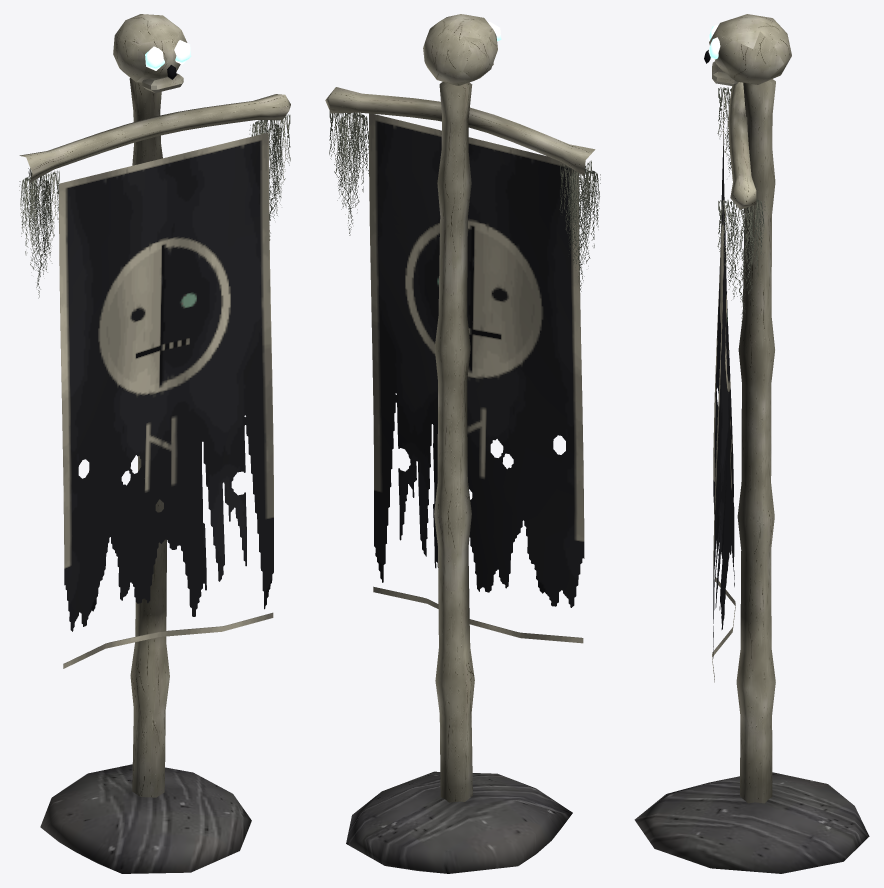
Rendered from helheim_banner.glb.
3 views of the same model, side by side, from view 1: azimuth 30°, elevation 25°; view 2: azimuth 150°, elevation 25°; view 3: azimuth 270°, elevation 25° (orthographic).
Visible parts, largest first — view 1: helheim_banner; view 2: helheim_banner; view 3: helheim_banner.
Part boxes in pixels (x1,y1,x2,y2): helheim_banner: (19, 14, 290, 873); helheim_banner: (325, 14, 600, 873); helheim_banner: (634, 14, 869, 873).
Bounding box in the file's own units: 1.1 × 3.09 × 0.7926.
6 materials, 4 textured.
